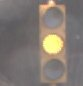Yellow: (33, 1, 74, 86)
